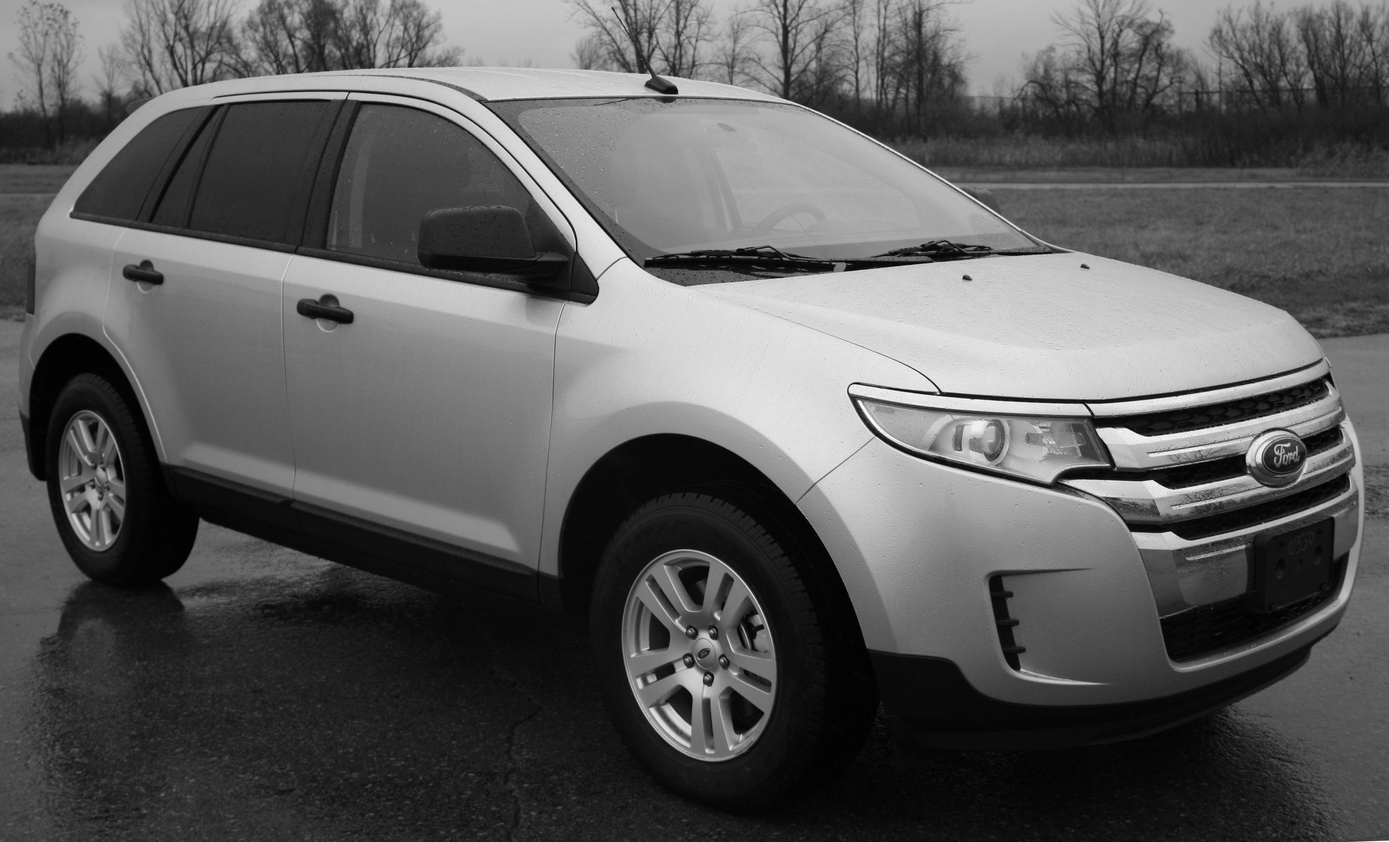car: (10, 10, 1369, 789)
